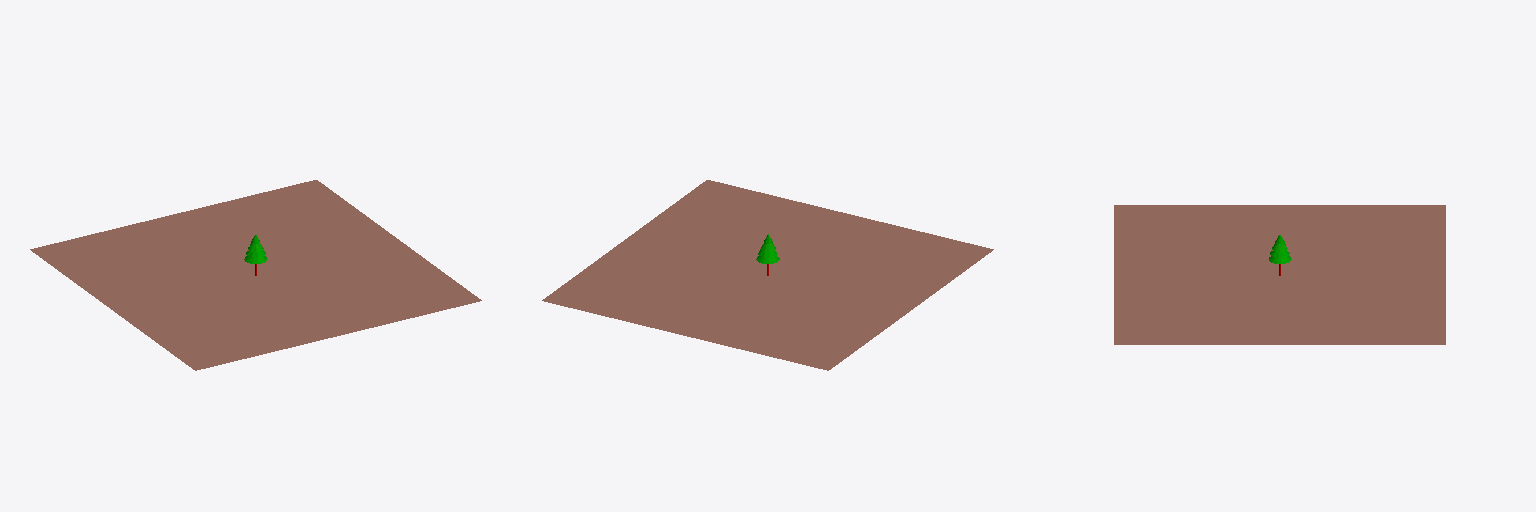
Rendered from pinetree.obj.
3 renders of one model, left to right at view 1: azimuth 30°, elevation 25°; view 2: azimuth 150°, elevation 25°; view 3: azimuth 270°, elevation 25°, orthographic.
Visible parts, largest first — view 1: Plane; view 2: Plane; view 3: Plane.
Part boxes in pixels (bbox=[...]): Plane: bbox=[30, 180, 481, 370]; Plane: bbox=[542, 180, 993, 370]; Plane: bbox=[1114, 205, 1445, 344].
Size of the model in its own units: 39.93 by 5.81 by 39.93.